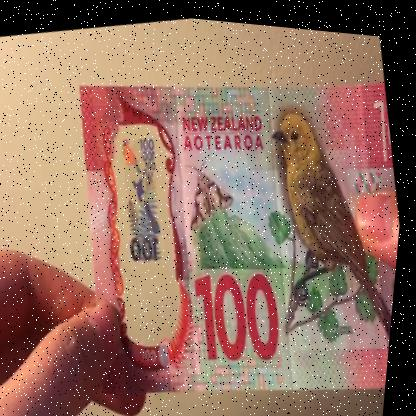100B: (104, 118, 195, 314)
